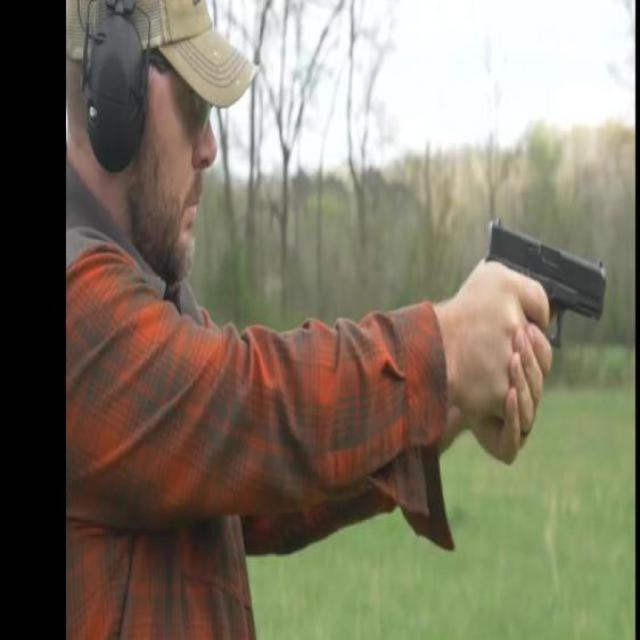pistol: (482, 216, 608, 416)
